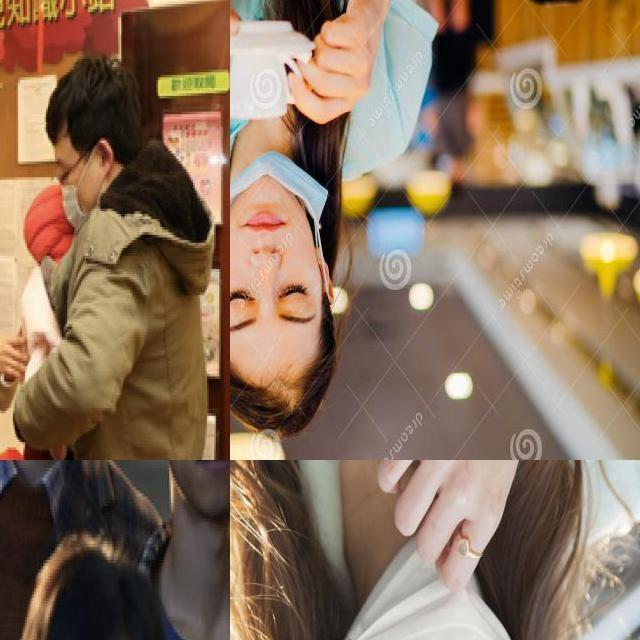hairnet: (230, 151, 327, 261)
